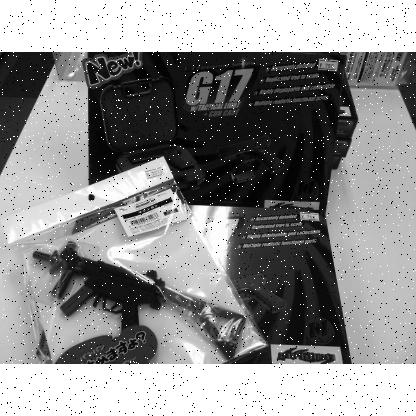gun: (32, 240, 245, 360)
